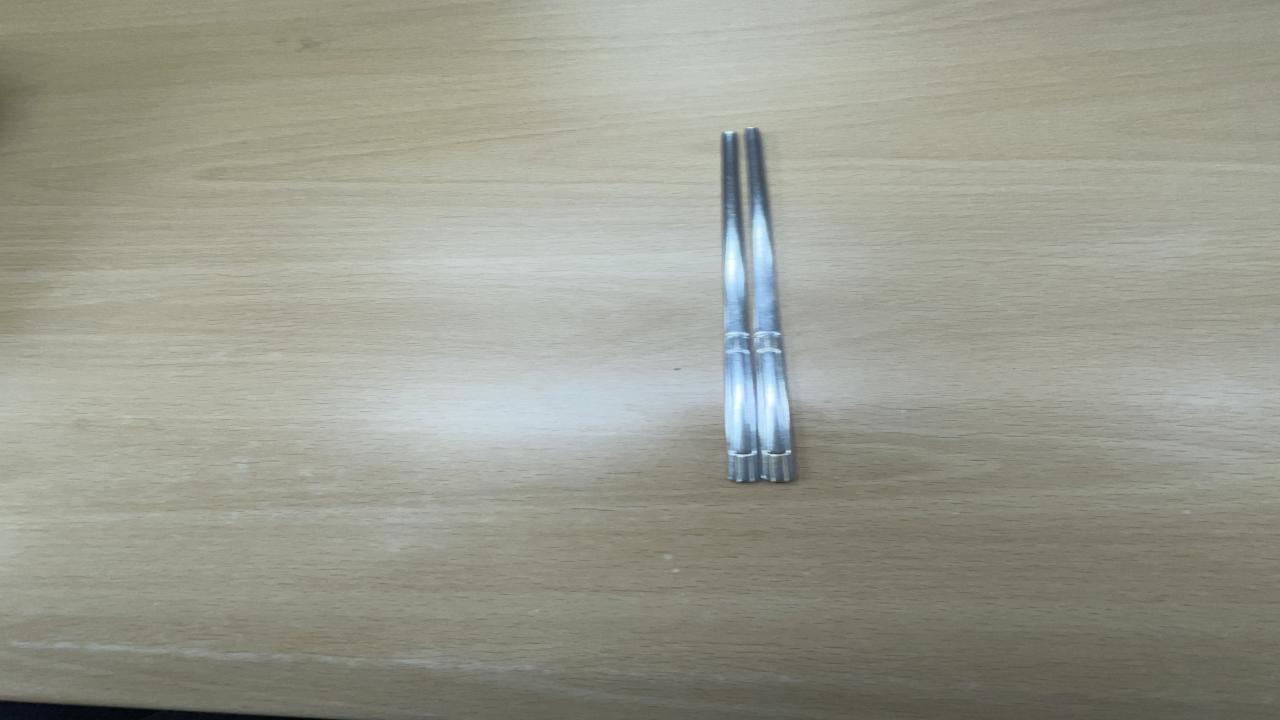chopstick: (715, 125, 800, 489)
